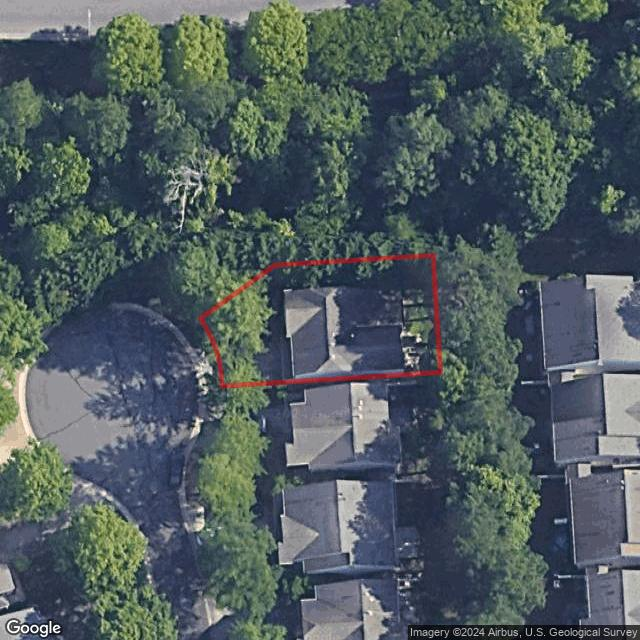Driveway: (215, 344, 294, 384)
Extra-Driveway: (193, 349, 221, 385)
Extra-Lawn: (181, 318, 215, 350)
House: (284, 286, 406, 381)
Lawn: (199, 255, 441, 387)
Other: (400, 289, 434, 373)
Sidewalk: (281, 317, 292, 344)
